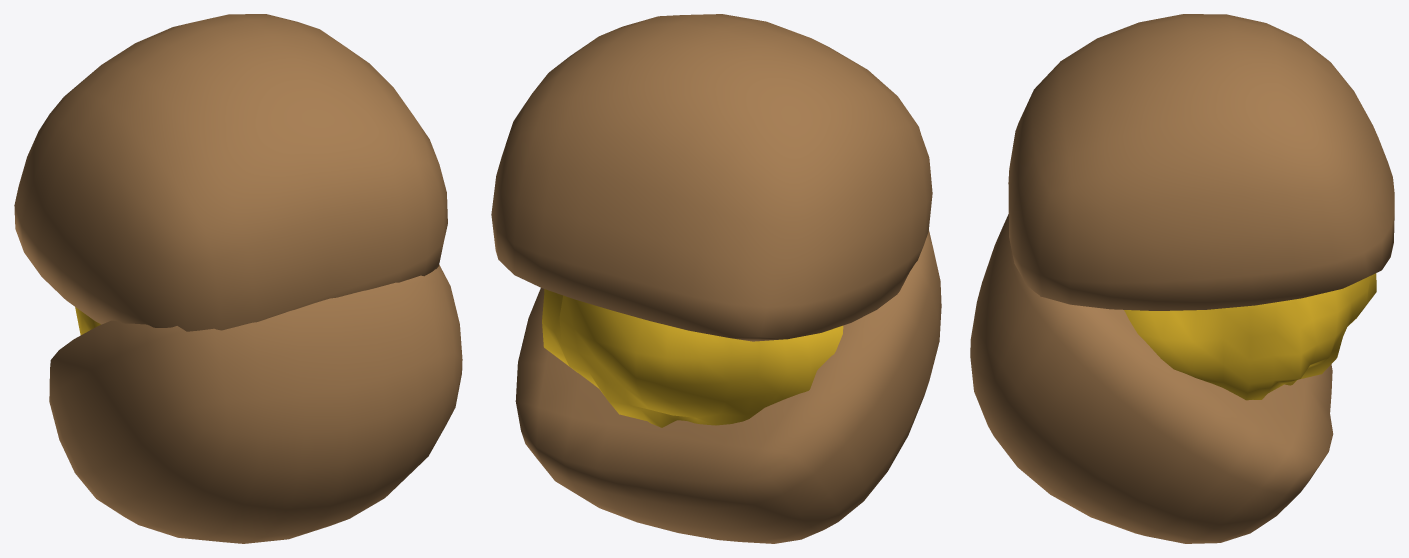
The model's file is wadapav.fbx.
3 renders of one model, left to right at view 1: azimuth 30°, elevation 25°; view 2: azimuth 150°, elevation 25°; view 3: azimuth 270°, elevation 25°, orthographic. The views are drawn at different scales.
Parts seen in each view (by area): view 1: Pav, Pav.005; view 2: Pav, Pav.005, Wada; view 3: Pav, Pav.005, Wada.
Boxes of the visible parts, <box> form: Pav: <box>14,14,447,331</box>; Pav.005: <box>49,264,462,543</box>; Pav: <box>491,14,932,341</box>; Pav.005: <box>515,230,941,543</box>; Wada: <box>542,289,843,427</box>; Pav: <box>1008,14,1394,310</box>; Pav.005: <box>970,214,1333,543</box>; Wada: <box>1124,273,1376,400</box>.
Bounding box in the file's own units: 220 × 290 × 234.
